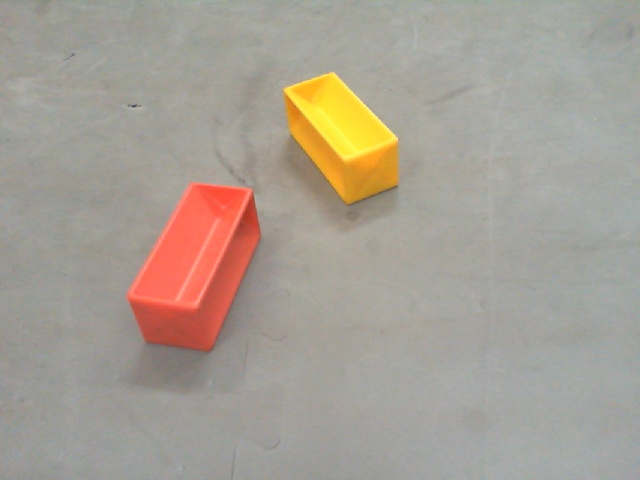RedSample: (126, 180, 262, 356)
YellowSample: (280, 68, 403, 211)
